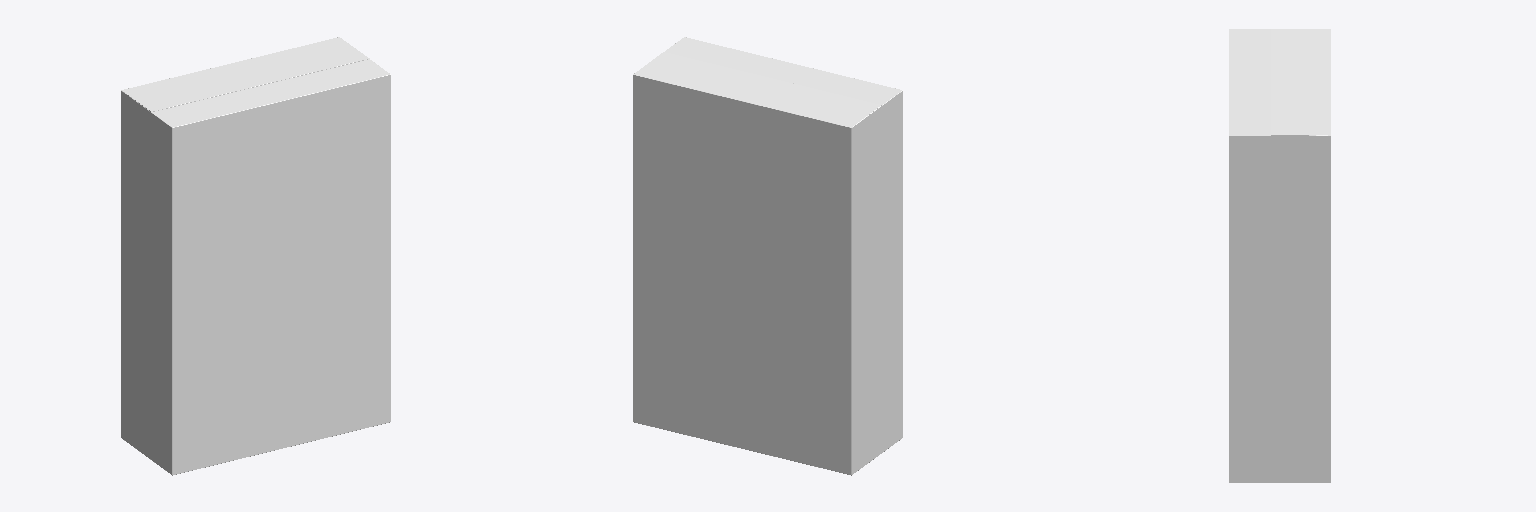
File: CocoPops.obj
3 views of the same model, side by side, from view 1: azimuth 30°, elevation 25°; view 2: azimuth 150°, elevation 25°; view 3: azimuth 270°, elevation 25° (orthographic).
Visible parts, largest first — view 1: rice_1; view 2: rice_1; view 3: rice_1.
Part boxes in pixels (bbox=[...]): rice_1: bbox=[121, 37, 390, 475]; rice_1: bbox=[633, 37, 902, 475]; rice_1: bbox=[1229, 29, 1330, 482].
Size of the model in its own units: 13.5 by 20.53 by 5.5.